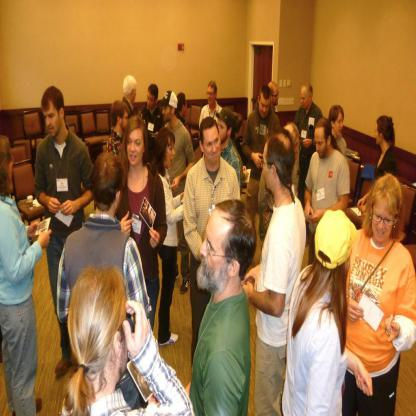face: (201, 210, 230, 289), (373, 201, 395, 243), (264, 143, 277, 191), (43, 103, 61, 137), (128, 128, 145, 164), (205, 127, 221, 163), (288, 137, 302, 173), (315, 128, 329, 159), (5, 144, 14, 180), (166, 140, 176, 169), (218, 119, 228, 144), (334, 114, 344, 136), (260, 98, 271, 117), (163, 104, 173, 122), (121, 110, 129, 132), (301, 89, 310, 108), (272, 87, 280, 105), (376, 124, 383, 144), (148, 91, 156, 108), (208, 88, 215, 105), (131, 84, 137, 103), (183, 100, 187, 115)
